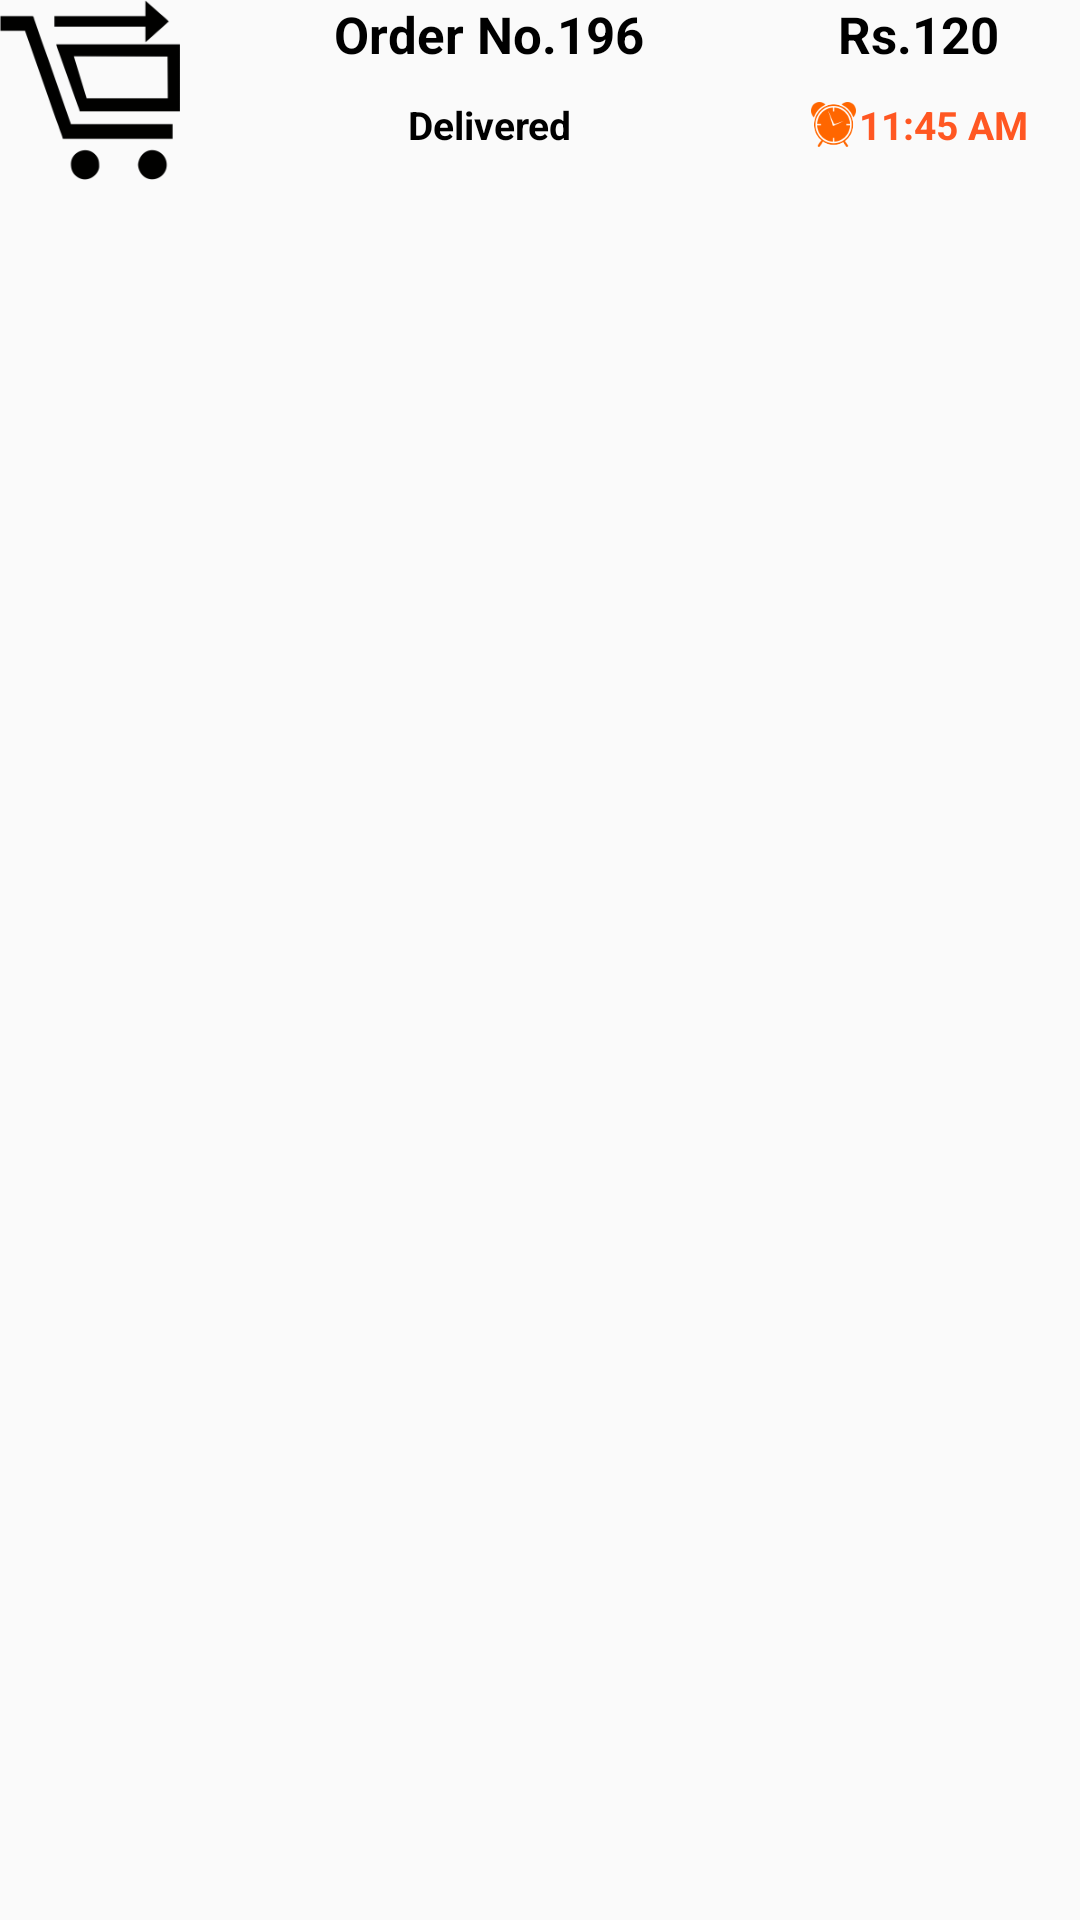

Locate icon controls on the screen. Image size 1080 × 1920, boxes as (x1, y1, x2, y2).
basketblack: (0, 1, 180, 180)
watch: (811, 102, 856, 147)
